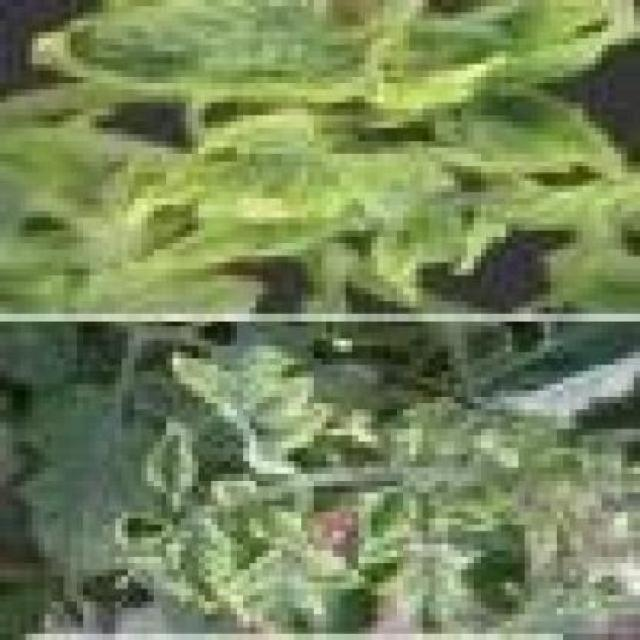Healthy Leaf: (57, 8, 551, 97), (180, 154, 455, 243), (211, 95, 358, 160), (148, 417, 205, 506), (178, 518, 237, 602), (255, 371, 320, 435), (358, 486, 409, 563)
